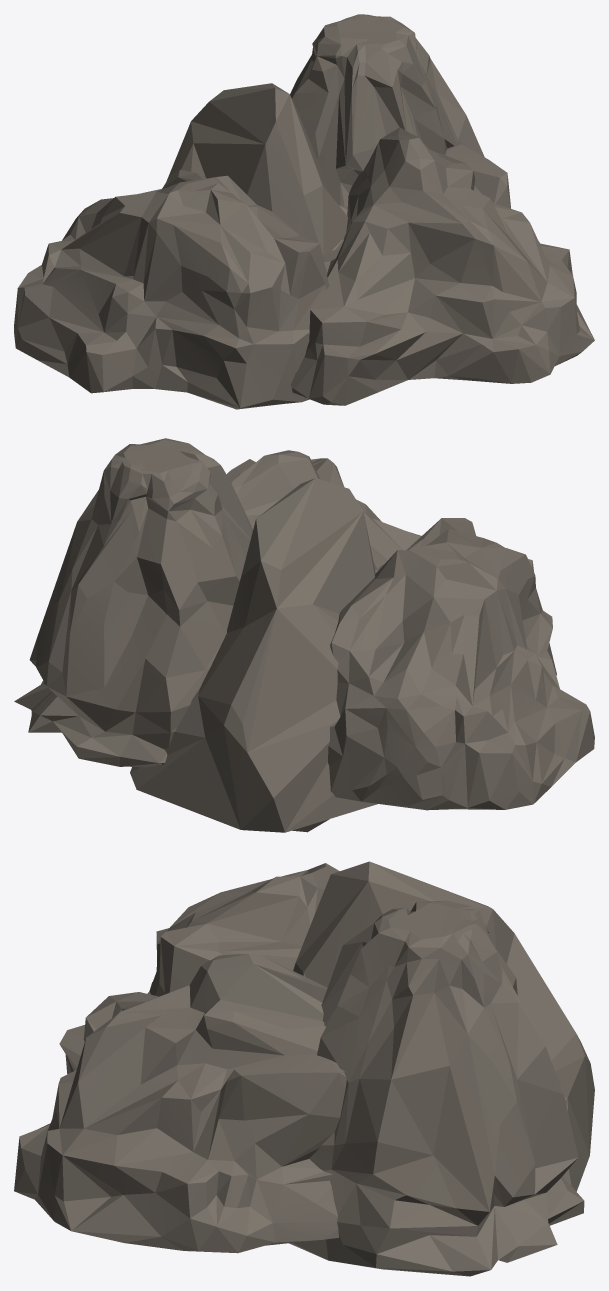
Rendered from RockPile1.fbx.
3 views of the same model, one above another, from view 1: azimuth 30°, elevation 25°; view 2: azimuth 150°, elevation 25°; view 3: azimuth 270°, elevation 25° (orthographic). The views are drawn at different scales.
Parts seen in each view (by area): view 1: SM_Env_Rock_Huge_03, SM_Env_Rock_Huge_02__1_, SM_Env_Rock_Large_04, SM_Env_Rock_02; view 2: SM_Env_Rock_Huge_03, SM_Env_Rock_Large_04, SM_Env_Rock_02, SM_Env_Rock_Huge_02__1_; view 3: SM_Env_Rock_Large_04, SM_Env_Rock_Huge_02__1_, SM_Env_Rock_02, SM_Env_Rock_Huge_03.
Boxes of the visible parts, bbox=[...] form: SM_Env_Rock_Huge_03: bbox=[14, 169, 329, 409]; SM_Env_Rock_Huge_02__1_: bbox=[290, 127, 594, 405]; SM_Env_Rock_Large_04: bbox=[290, 14, 484, 206]; SM_Env_Rock_02: bbox=[166, 83, 347, 253]; SM_Env_Rock_Huge_03: bbox=[328, 518, 594, 810]; SM_Env_Rock_Large_04: bbox=[14, 438, 252, 767]; SM_Env_Rock_02: bbox=[130, 478, 377, 832]; SM_Env_Rock_Huge_02__1_: bbox=[226, 450, 421, 572]; SM_Env_Rock_Large_04: bbox=[289, 900, 584, 1276]; SM_Env_Rock_Huge_02__1_: bbox=[14, 954, 346, 1253]; SM_Env_Rock_02: bbox=[293, 861, 594, 1191]; SM_Env_Rock_Huge_03: bbox=[147, 863, 339, 996].
Size of the model in its own units: 8779 by 5569 by 7865.
1 material, 1 textured.
